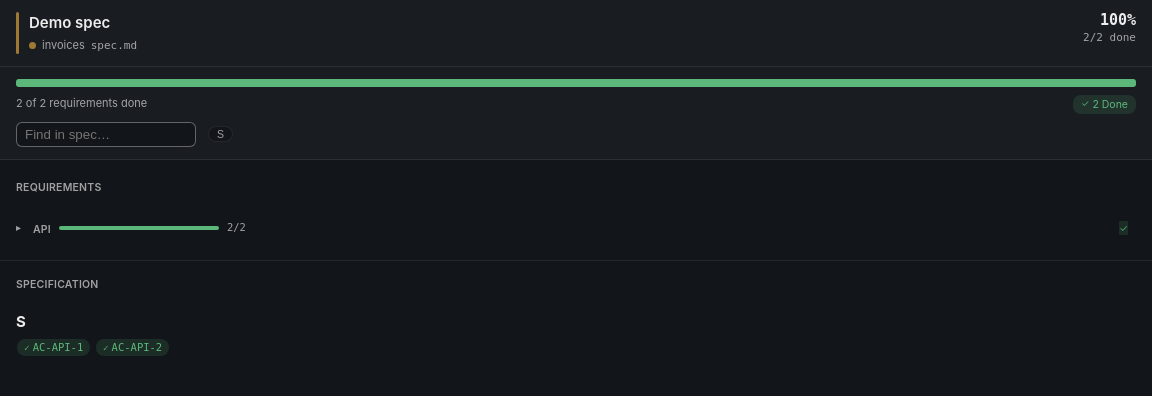
it: SpecDetail roll-up + chip-as-expander › toggles a family open/closed on header click (override beats the default)
The image size is (1152, 396).
Click the button with class "spec-family-head" at (139, 228), box [12,211,1132,244]
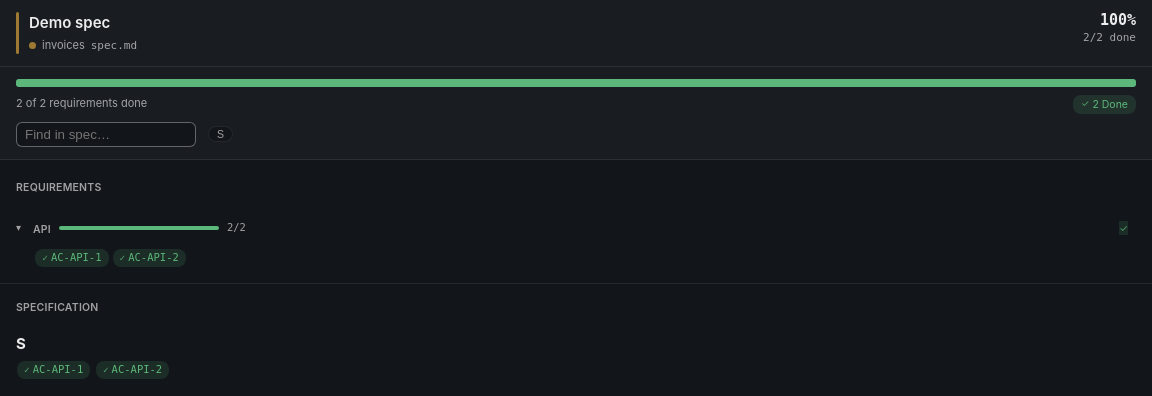
Expected: the 1st button "✓ AC-API-1" is shown, [35,249,109,267]
